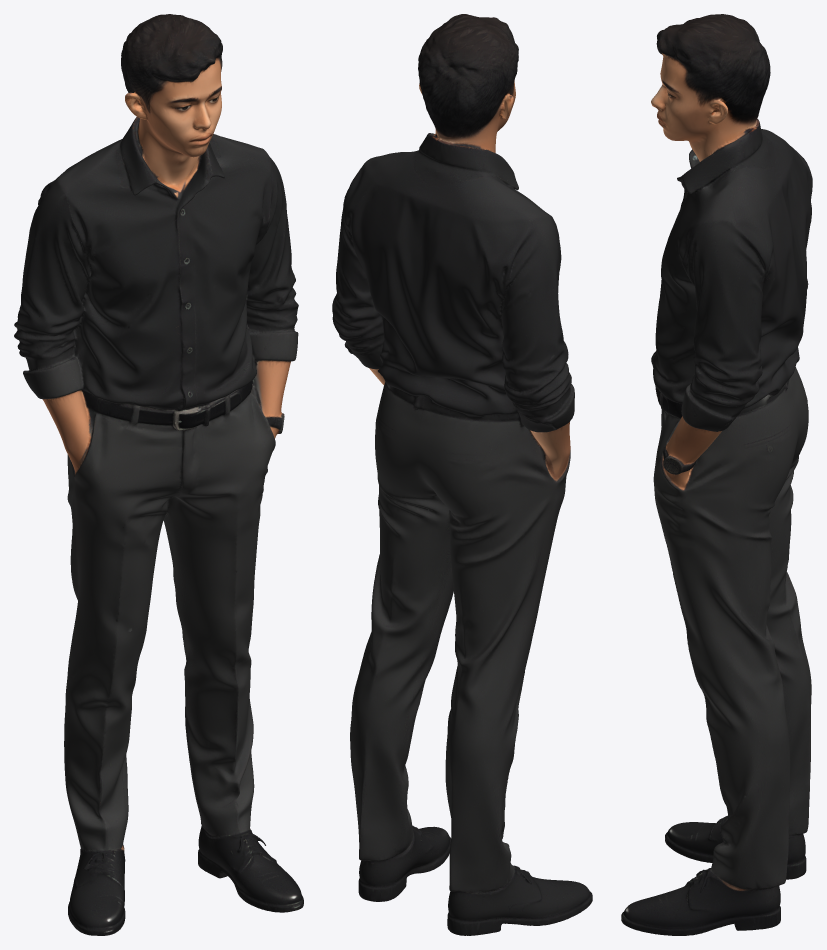
Rendered from professional.glb.
3 renders of one model, left to right at view 1: azimuth 30°, elevation 25°; view 2: azimuth 150°, elevation 25°; view 3: azimuth 270°, elevation 25°, orthographic.
Size of the model in its own units: 0.5687 by 1.9 by 0.3792.
1 material, 1 textured.
